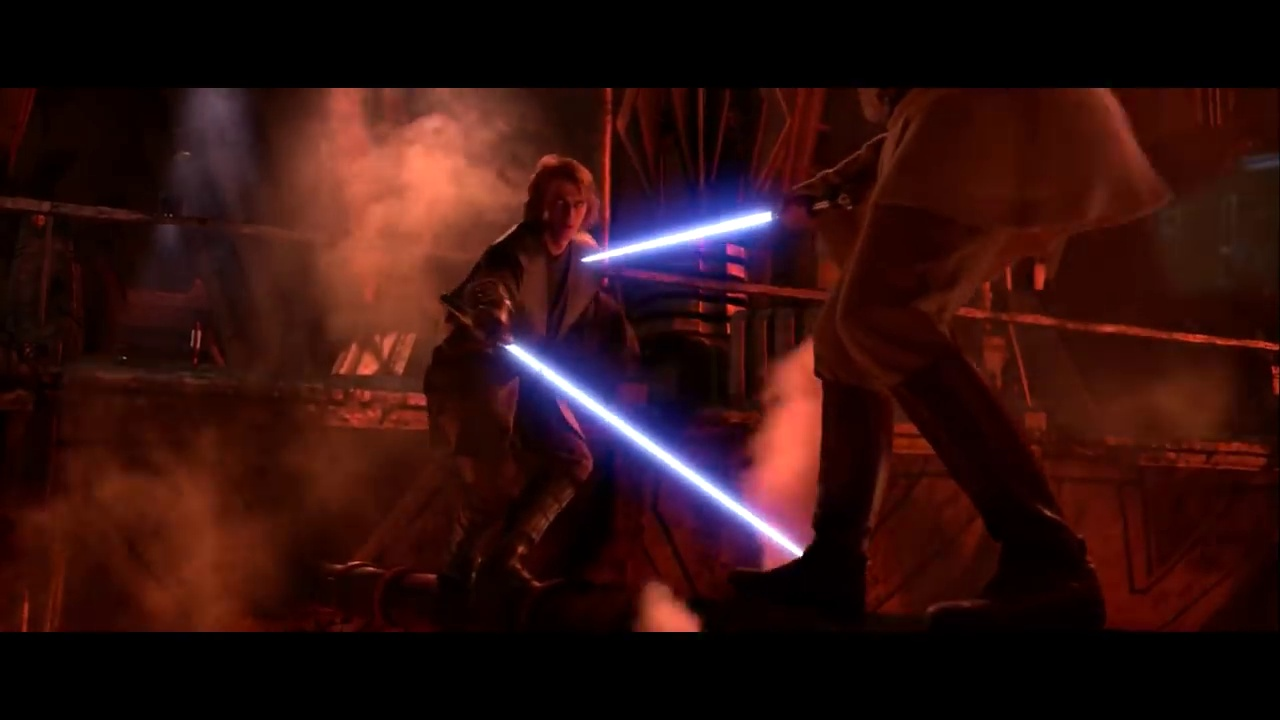lightsaber: (434, 291, 821, 566), (573, 163, 857, 276)
